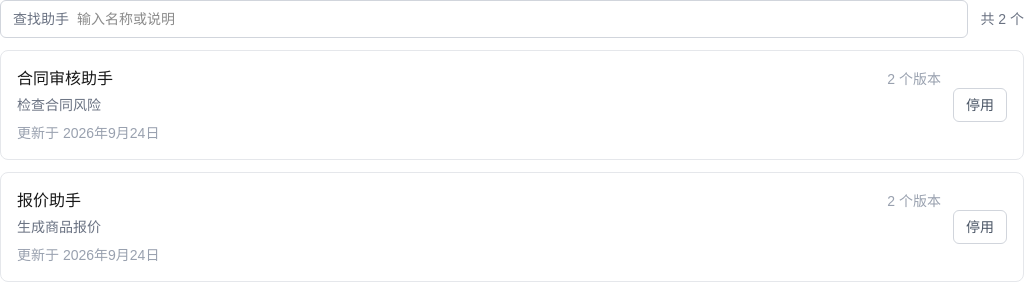
Test: 助手列表 › 可以按名称或说明查找助手
The image size is (1036, 299).
Step 1. Type "风险" into the search field → (516, 19), box [77,9,955,29]
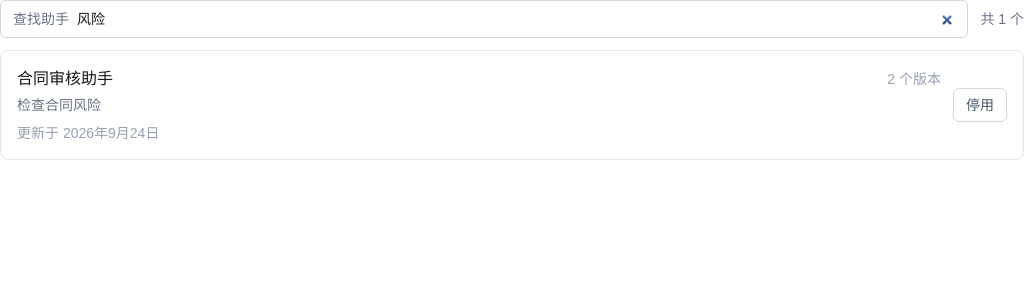
Expected: the text "合同审核助手" is shown, [17,67,113,91]
Expected: the link "报价助手" is gone
Expected: the text "共 1 个" is shown, [980,9,1024,29]
